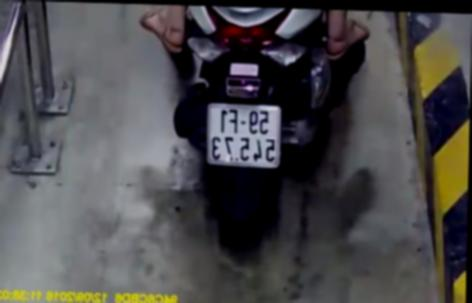License_Plate: (198, 98, 287, 181)
